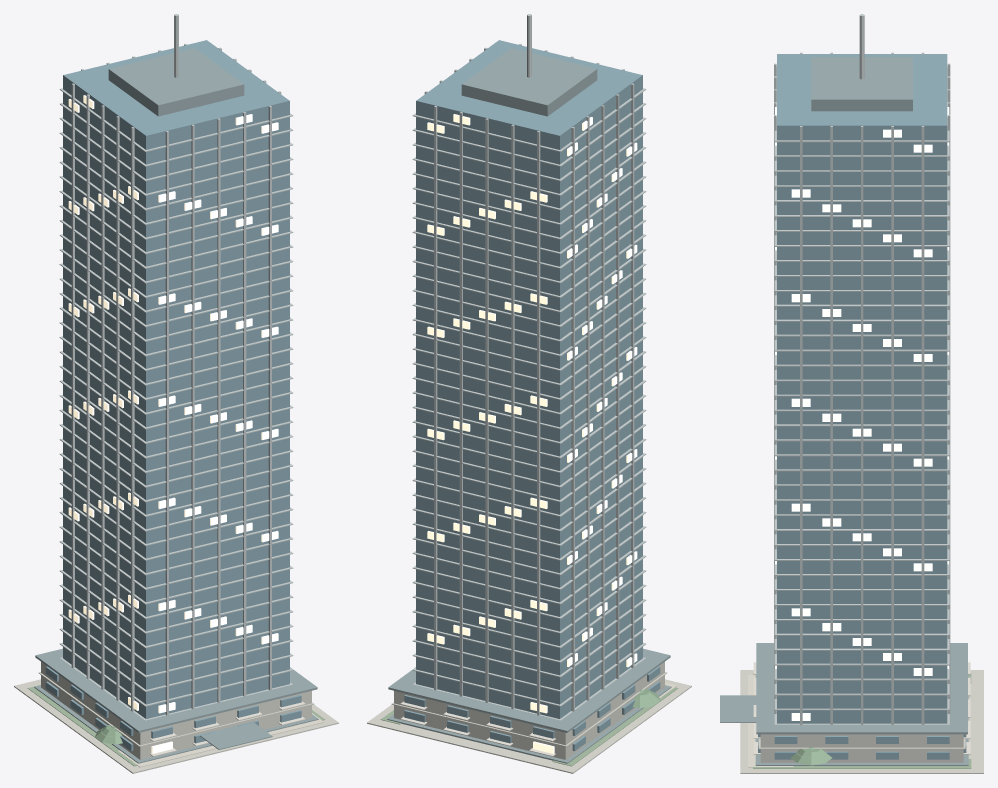
Rendered from remaster_skyscraper_2.glb.
The picture shows the model from 3 angles, left to right: view 1: azimuth 30°, elevation 25°; view 2: azimuth 150°, elevation 25°; view 3: azimuth 270°, elevation 25°; orthographic projection. The views are drawn at different scales.
Visible parts, largest first — view 1: remaster_skyscraper_2 glass, remaster_skyscraper_2 metal, remaster_skyscraper_2 roof, remaster_skyscraper_2 stone, remaster_skyscraper_2 warm, remaster_skyscraper_2 cream, remaster_skyscraper_2 green, remaster_skyscraper_2 white; view 2: remaster_skyscraper_2 glass, remaster_skyscraper_2 metal, remaster_skyscraper_2 roof, remaster_skyscraper_2 stone, remaster_skyscraper_2 warm, remaster_skyscraper_2 white, remaster_skyscraper_2 green; view 3: remaster_skyscraper_2 glass, remaster_skyscraper_2 metal, remaster_skyscraper_2 roof, remaster_skyscraper_2 stone, remaster_skyscraper_2 warm, remaster_skyscraper_2 green, remaster_skyscraper_2 white, remaster_skyscraper_2 leaf, remaster_skyscraper_2 cream.
Part boxes in pixels (x1,y1,x2,y2): remaster_skyscraper_2 glass: (45,40,301,751); remaster_skyscraper_2 metal: (59,14,293,720); remaster_skyscraper_2 roof: (34,48,318,763); remaster_skyscraper_2 stone: (14,662,338,773); remaster_skyscraper_2 warm: (68,95,278,753); remaster_skyscraper_2 cream: (118,713,324,767); remaster_skyscraper_2 green: (27,685,325,766); remaster_skyscraper_2 white: (150,701,305,756); remaster_skyscraper_2 glass: (404,40,660,751); remaster_skyscraper_2 metal: (412,14,646,720); remaster_skyscraper_2 roof: (387,48,671,763); remaster_skyscraper_2 stone: (367,662,691,773); remaster_skyscraper_2 warm: (427,114,637,753); remaster_skyscraper_2 white: (400,701,555,756); remaster_skyscraper_2 green: (380,687,678,766); remaster_skyscraper_2 glass: (758,54,966,759); remaster_skyscraper_2 metal: (774,14,950,724); remaster_skyscraper_2 roof: (720,57,968,765); remaster_skyscraper_2 stone: (740,670,983,773); remaster_skyscraper_2 warm: (775,103,949,720); remaster_skyscraper_2 green: (753,673,971,768); remaster_skyscraper_2 white: (753,662,970,754); remaster_skyscraper_2 leaf: (790,747,832,765); remaster_skyscraper_2 cream: (748,674,793,767).
Size of the model in its own units: 38.58 by 123 by 41.6.
